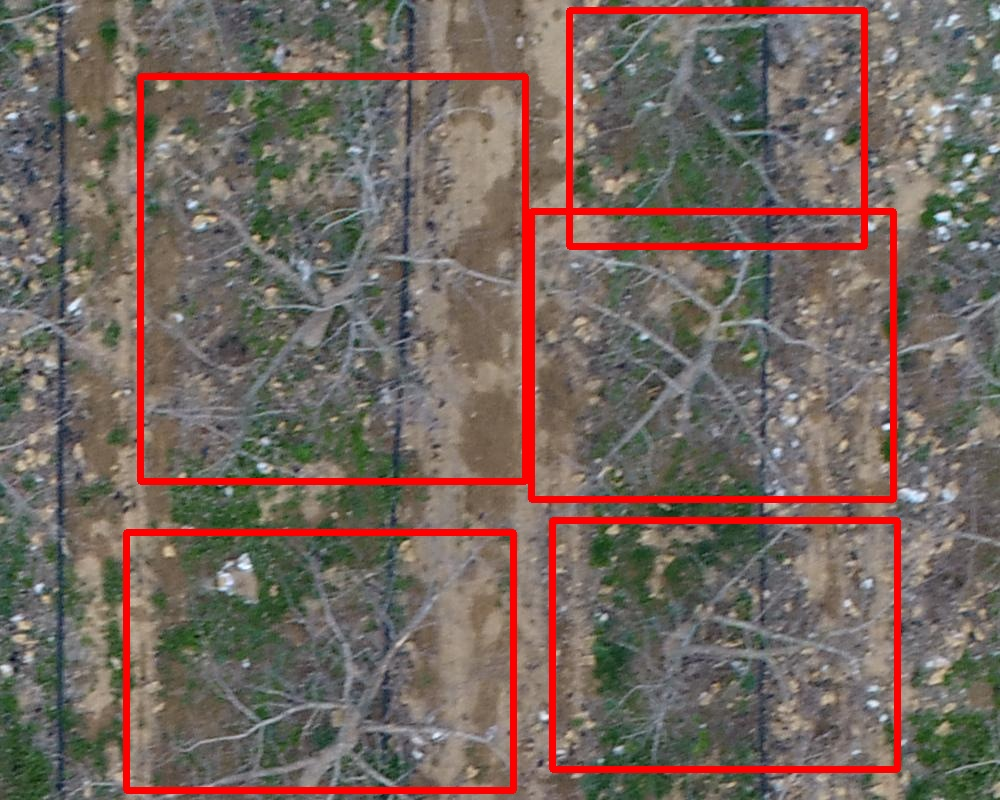apple: (140, 76, 525, 481), (531, 211, 893, 499), (126, 532, 513, 790), (552, 520, 897, 769), (569, 10, 864, 246)
